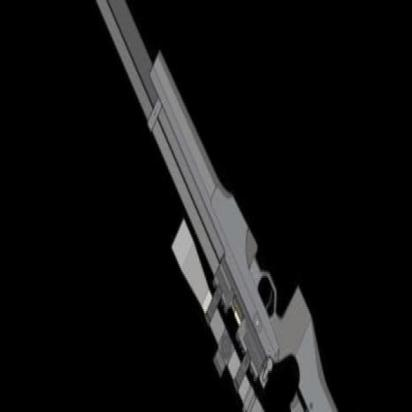Gun: (95, 0, 338, 412)
